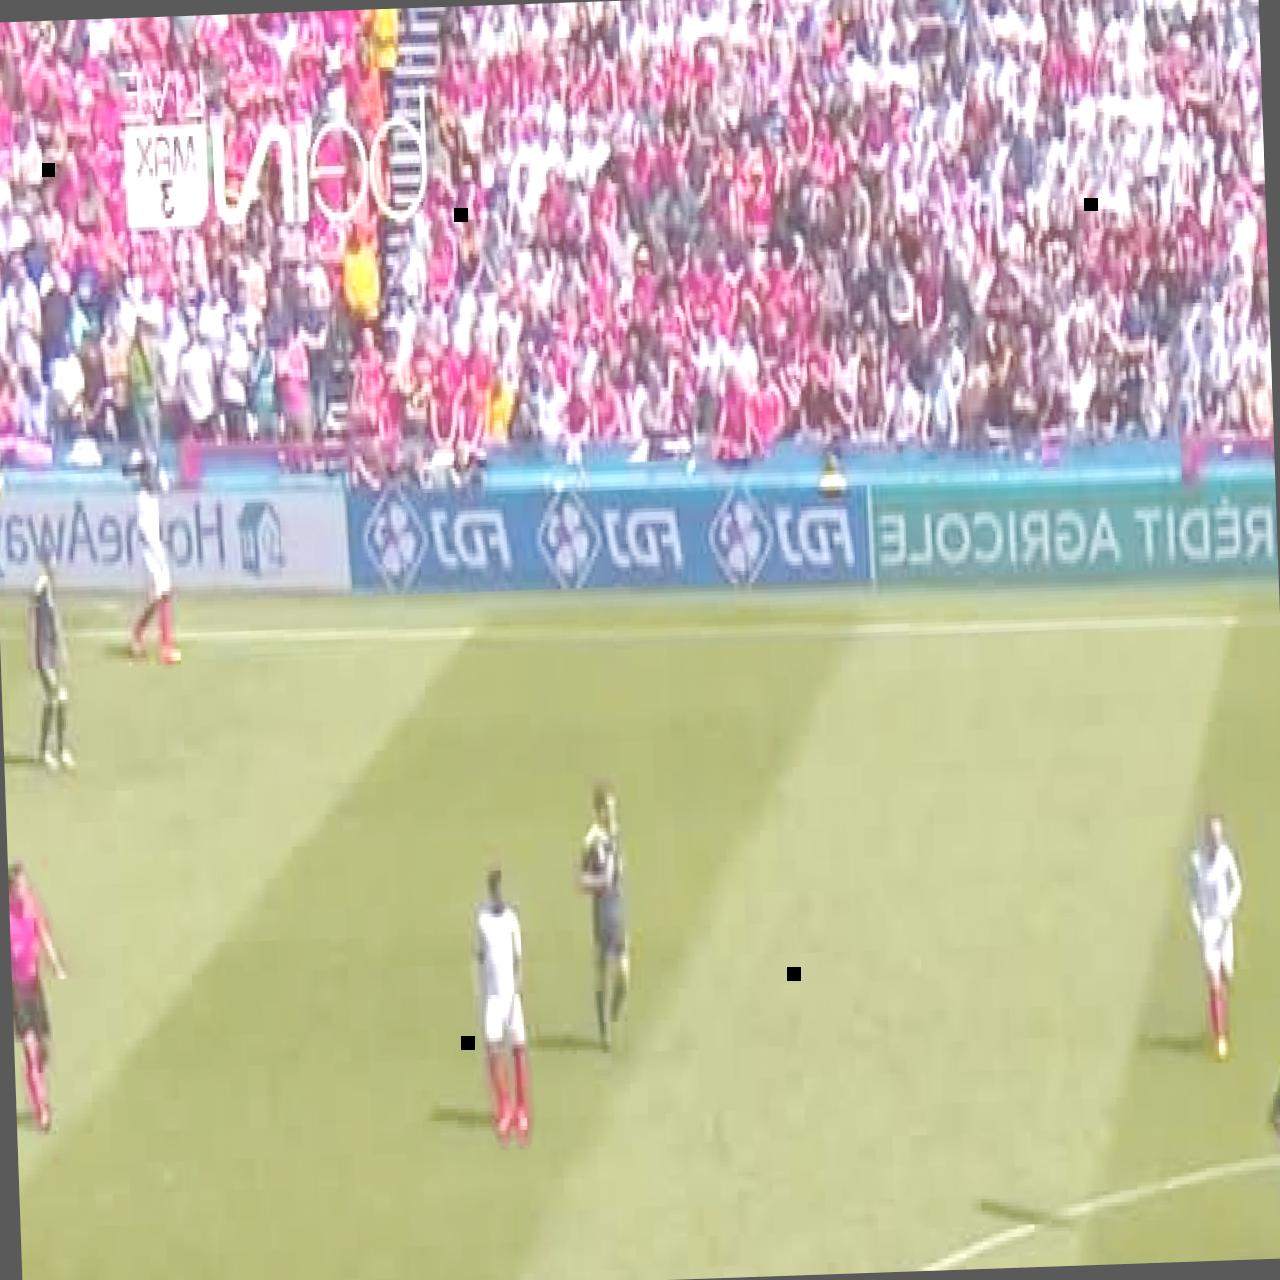football: (7, 849, 74, 1131), (1180, 811, 1248, 1066), (470, 866, 532, 1142), (574, 776, 634, 1051), (123, 455, 181, 666), (28, 540, 76, 774), (1268, 1025, 1280, 1258)
